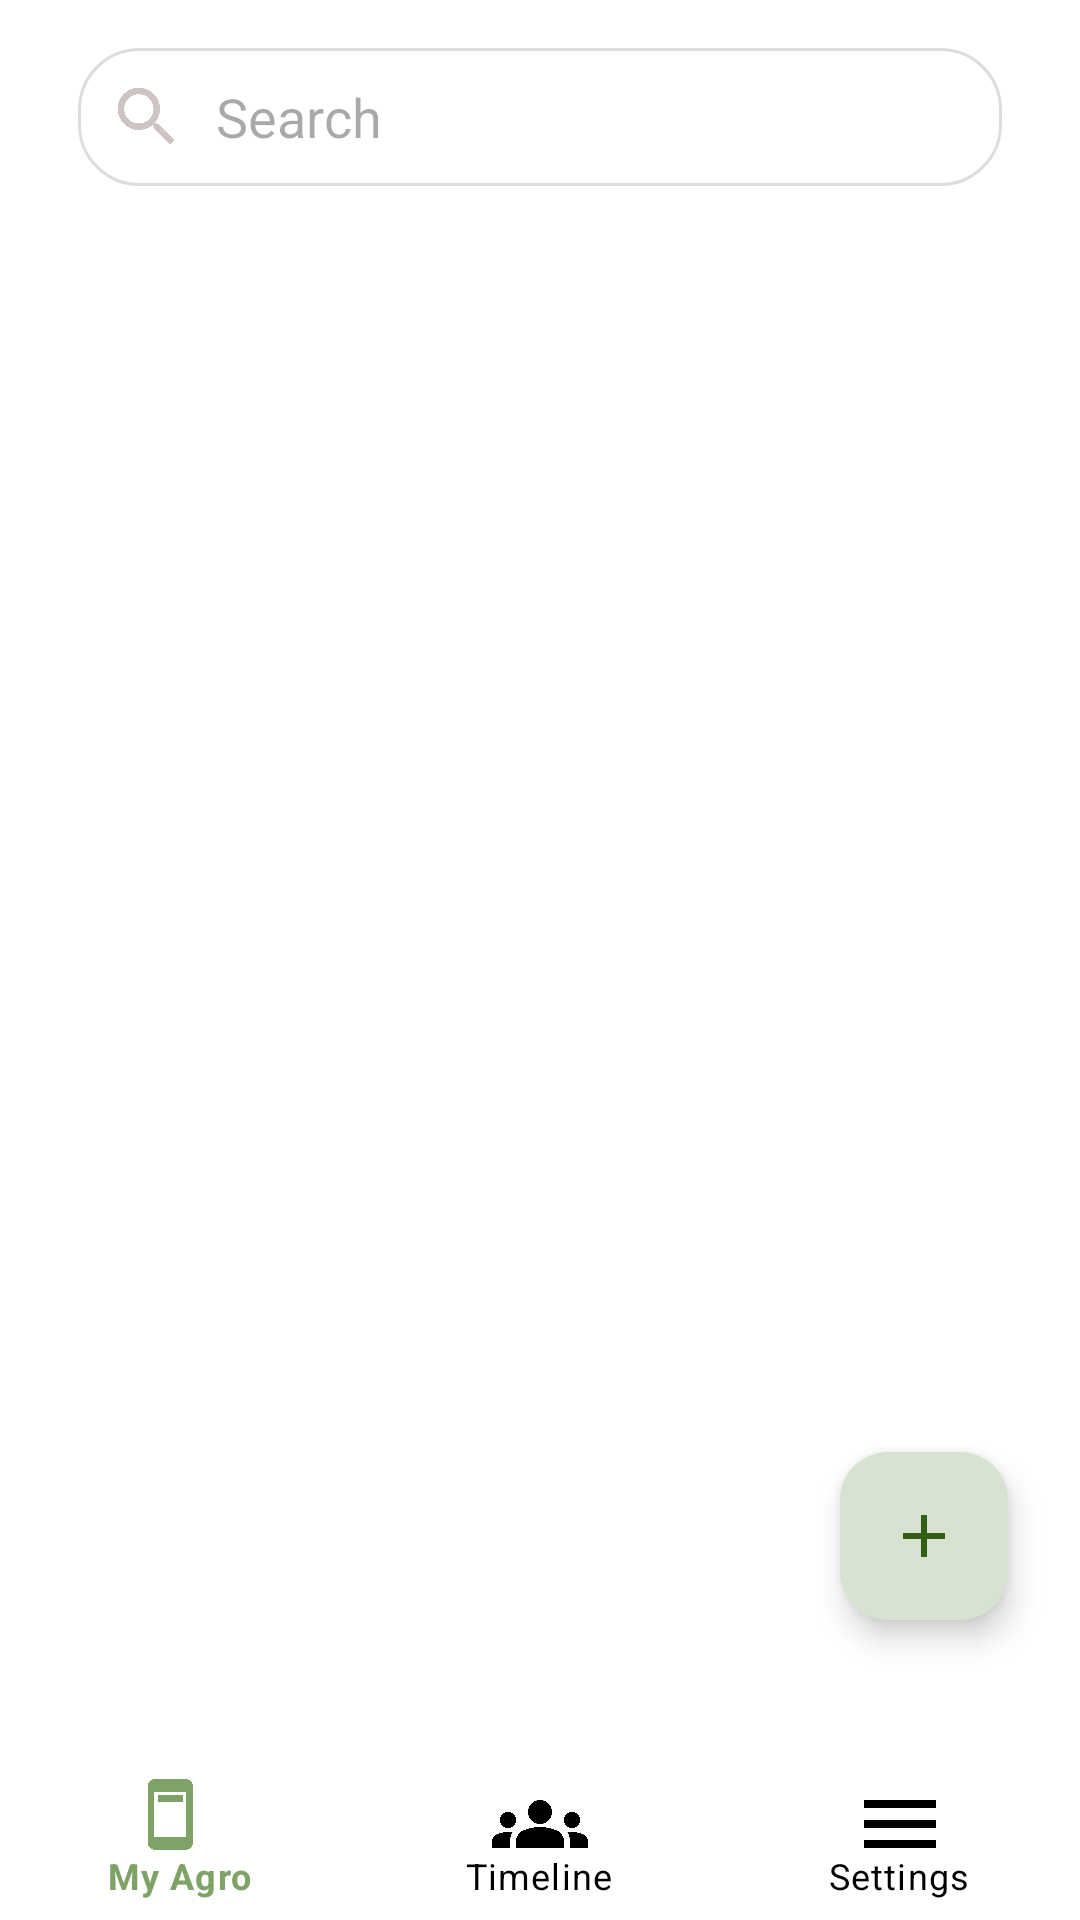

Where icons sit on this 1080px x 1920px app screen, as (x1, y1, x2, y2):
add: (840, 1452, 1008, 1620)
